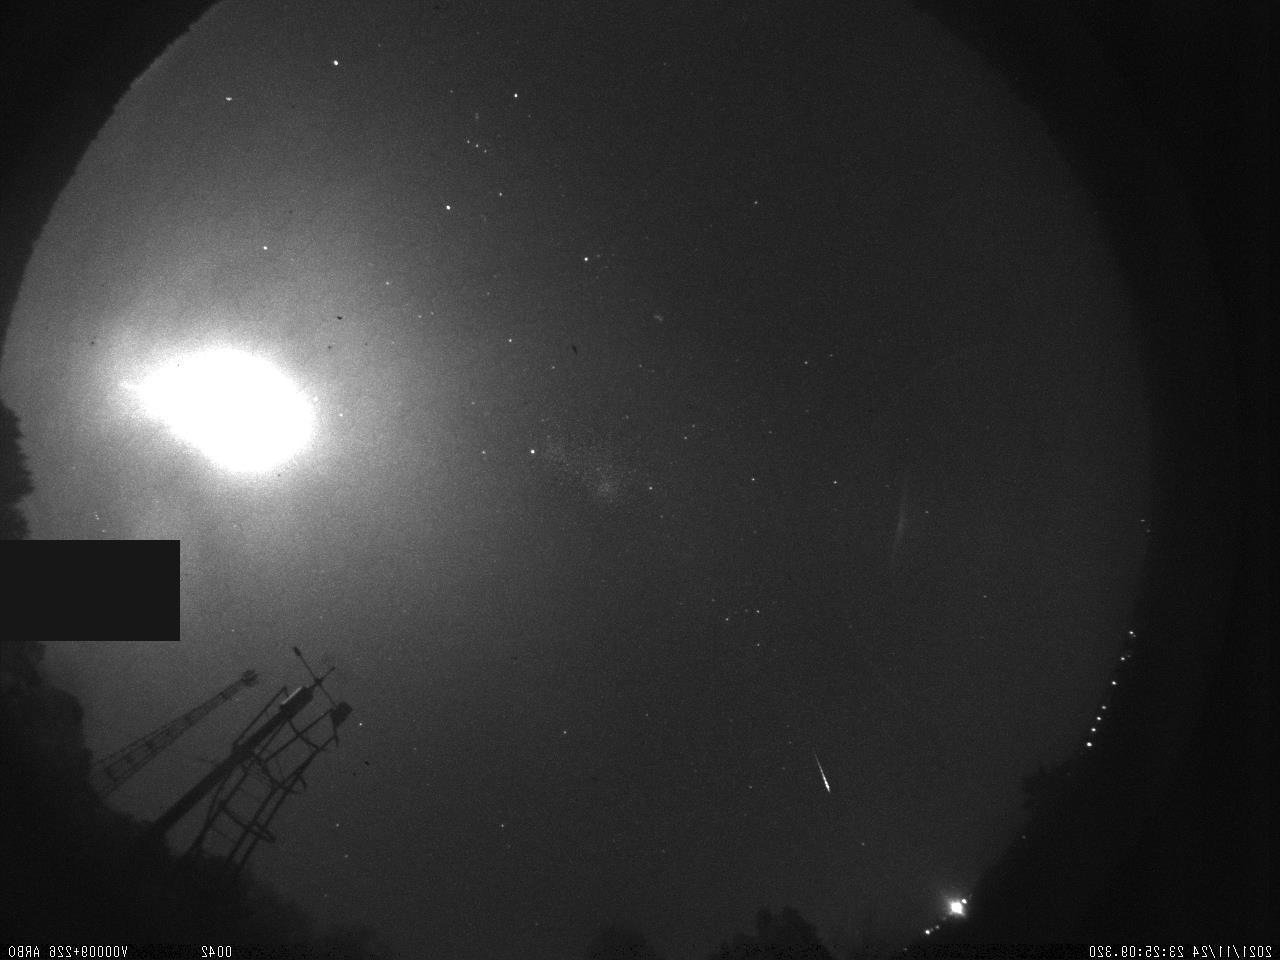meteor: (801, 743, 842, 808)
